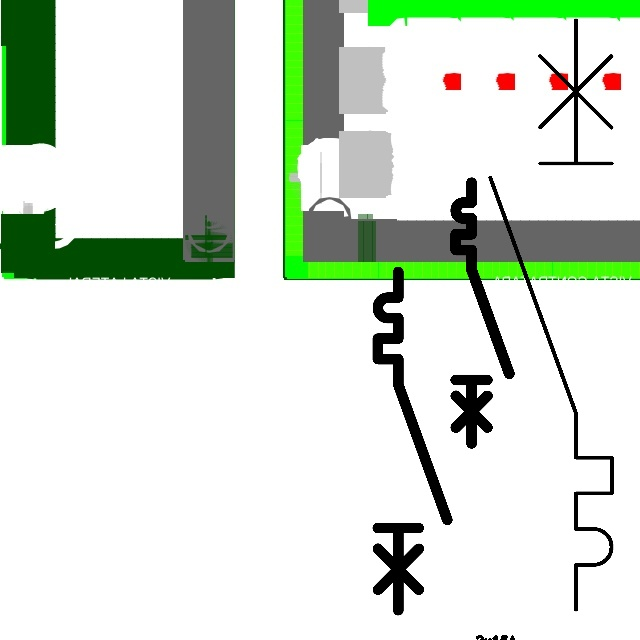interruptor_termomagnetico: (475, 5, 627, 625), (369, 263, 456, 619), (449, 176, 516, 450)
